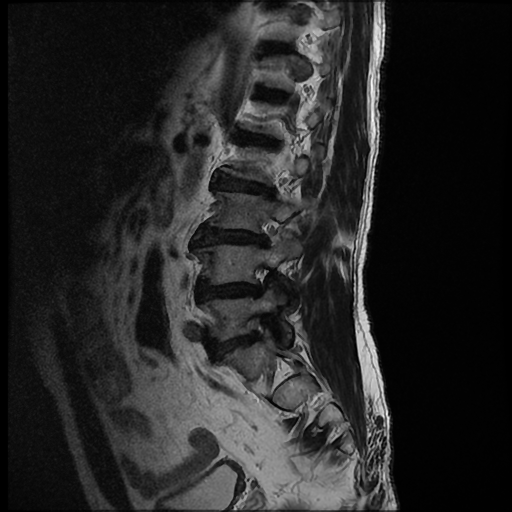LFS2: (238, 259, 284, 310)
